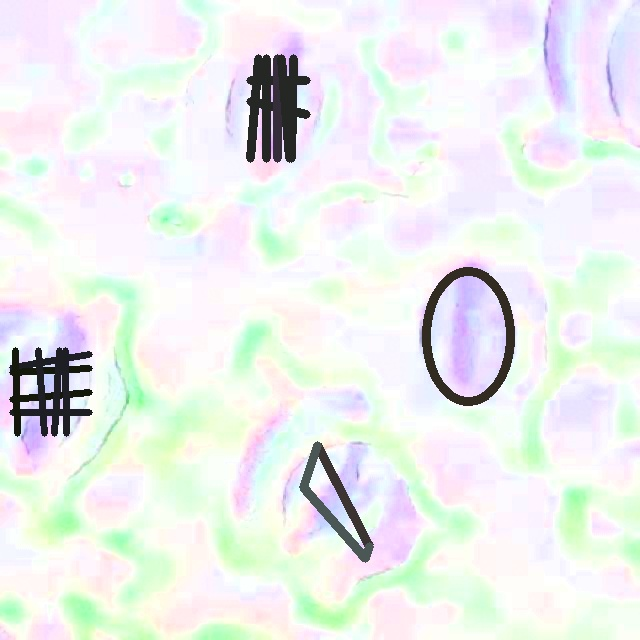open: (421, 265, 515, 406), (299, 441, 373, 562), (9, 347, 92, 436), (246, 54, 309, 162)
